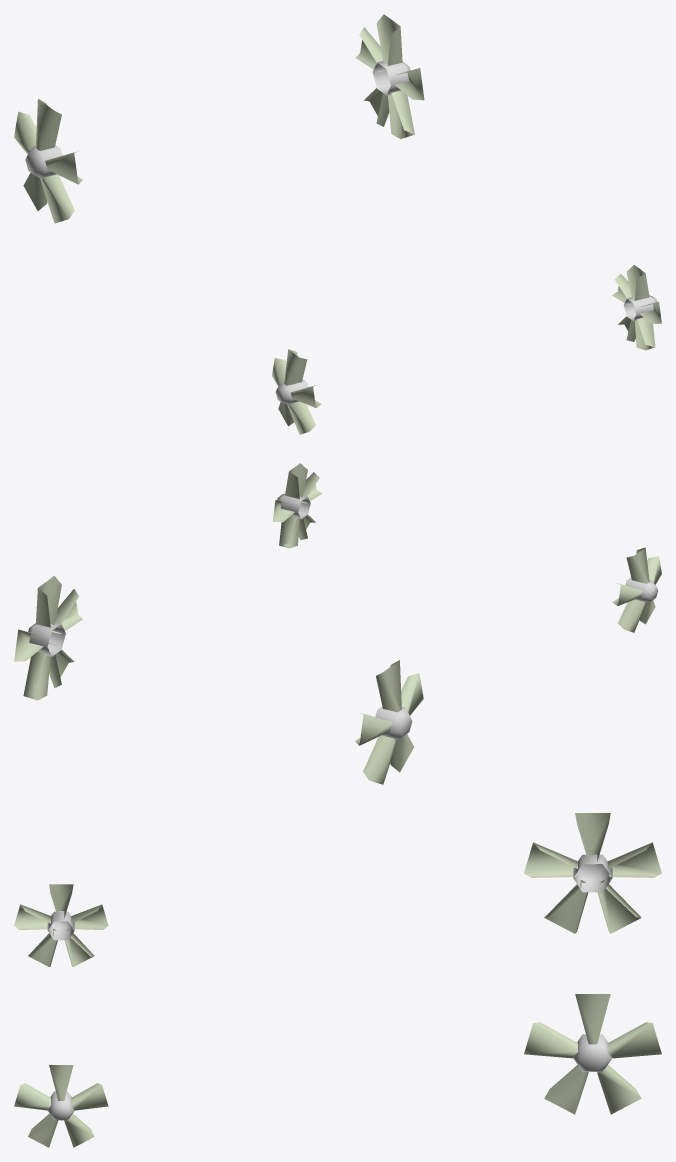
File: MuscleCar_Mags.fbx
3 views of the same model, one above another, from view 1: azimuth 30°, elevation 25°; view 2: azimuth 150°, elevation 25°; view 3: azimuth 270°, elevation 25° (orthographic). The views are drawn at different scales.
Parts seen in each view (by area): view 1: MagsRearLeft, MagsRearRight, MagsFrontLeft, MagsFrontRight; view 2: MagsRearLeft, MagsRearRight, MagsFrontLeft, MagsFrontRight; view 3: MagsRearRight, MagsRearLeft, MagsFrontLeft, MagsFrontRight.
Boxes of the visible parts, x1,y1,x2,y2 form: MagsRearLeft: (355,14,424,139); MagsRearRight: (14,99,82,223); MagsFrontLeft: (612,265,661,350); MagsFrontRight: (272,349,321,434); MagsRearLeft: (14,576,82,700); MagsRearRight: (355,660,423,784); MagsFrontLeft: (272,463,322,548); MagsFrontRight: (612,547,661,632); MagsRearRight: (524,813,661,933); MagsRearLeft: (524,994,661,1114); MagsFrontLeft: (14,1065,108,1147); MagsFrontRight: (14,884,108,966).
Size of the model in its own units: 183 by 67.11 by 255.
